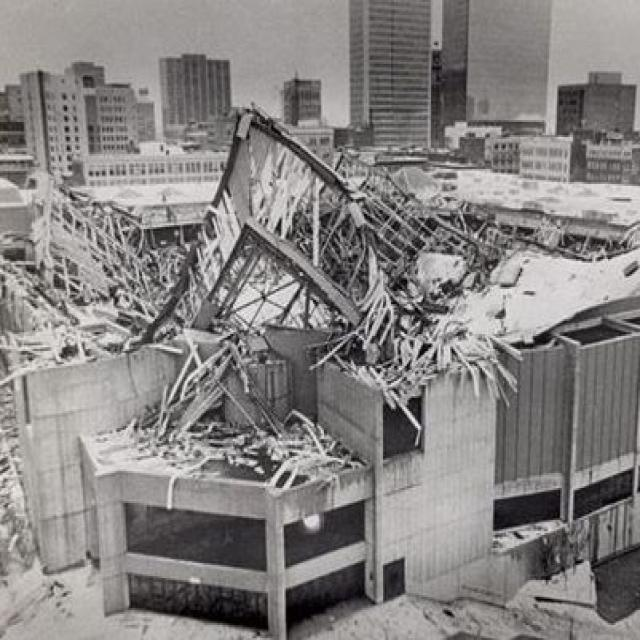collapsed_building: (27, 192, 639, 606)
